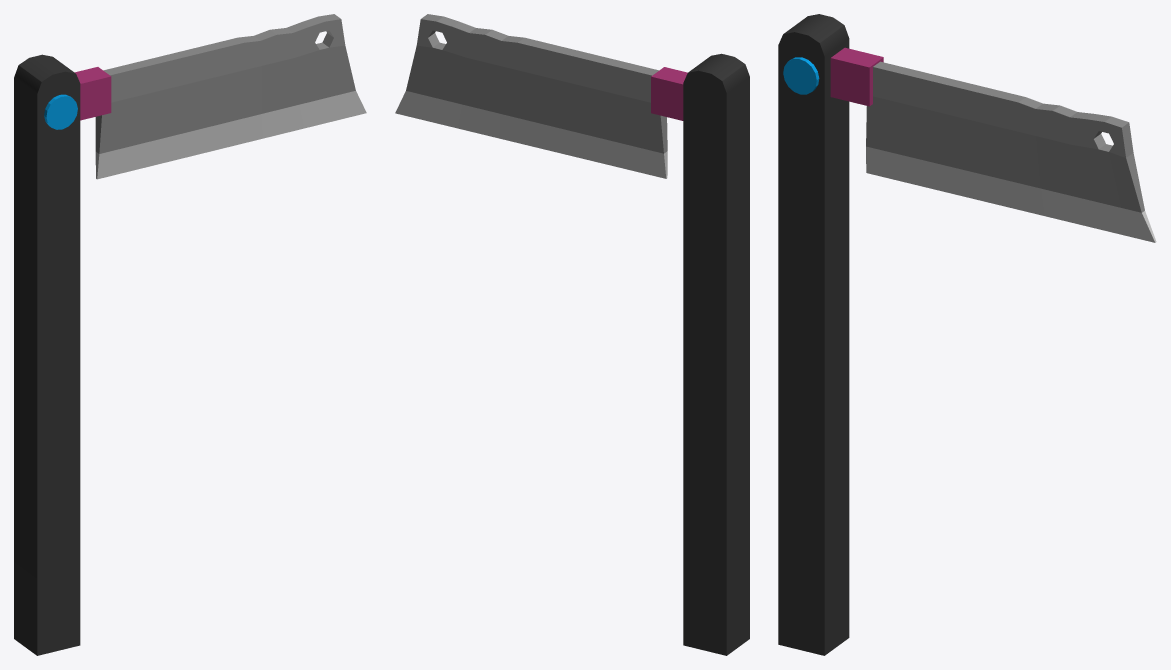
File: Trap_03 new.fbx
3 renders of one model, left to right at view 1: azimuth 30°, elevation 25°; view 2: azimuth 150°, elevation 25°; view 3: azimuth 330°, elevation 25°, orthographic. The views are drawn at different scales.
Visible parts, largest first — view 1: trap_03_base, trap_03_knife; view 2: trap_03_base, trap_03_knife; view 3: trap_03_base, trap_03_knife.
Part boxes in pixels (x1,y1,x2,y2): trap_03_base: (14, 54, 80, 655); trap_03_knife: (44, 14, 366, 179); trap_03_base: (683, 53, 749, 655); trap_03_knife: (395, 14, 687, 178); trap_03_base: (778, 14, 849, 655); trap_03_knife: (783, 47, 1156, 242).
Bounding box in the file's own units: 1622 × 2622 × 210.
